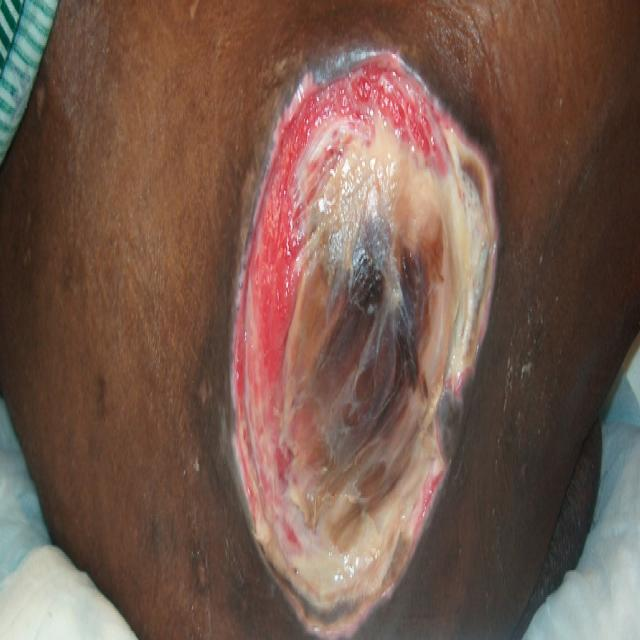Unstageable: (232, 54, 498, 633)
